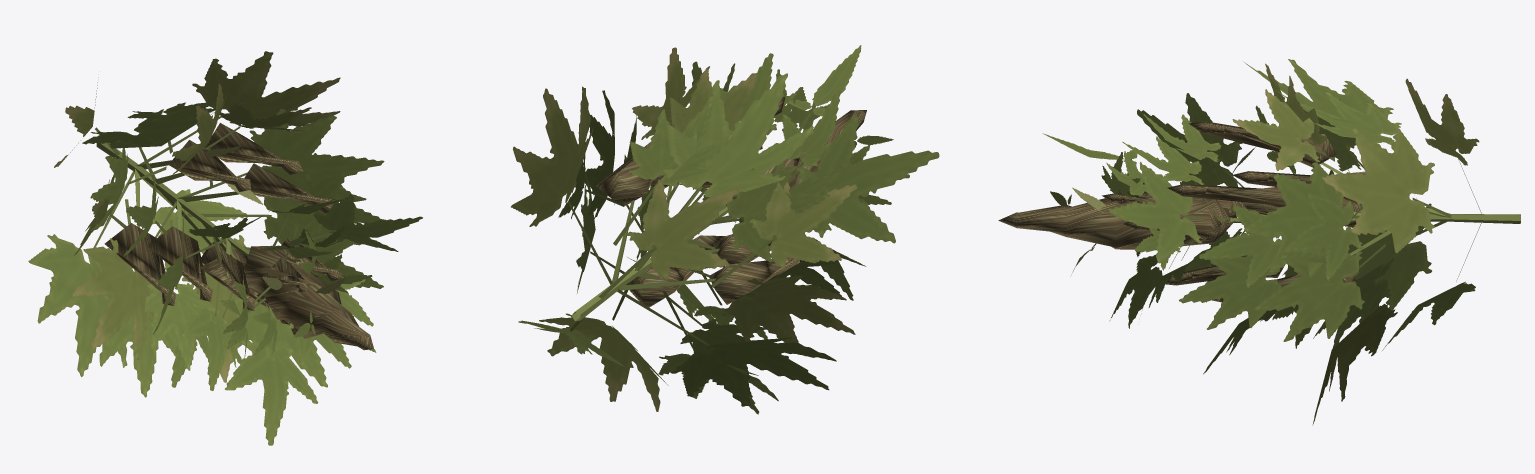
The model's file is p_dark_tree_ripe_c1_cards.obj.
3 views of the same model, side by side, from view 1: azimuth 30°, elevation 25°; view 2: azimuth 150°, elevation 25°; view 3: azimuth 270°, elevation 25° (orthographic). The views are drawn at different scales.
Size of the model in its own units: 1.4 by 1.41 by 1.76.
1 material, 1 textured.
